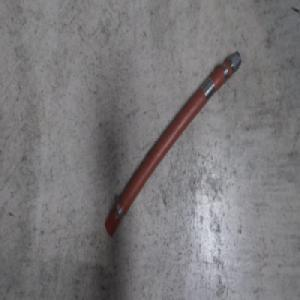Hose: (103, 49, 241, 240)
